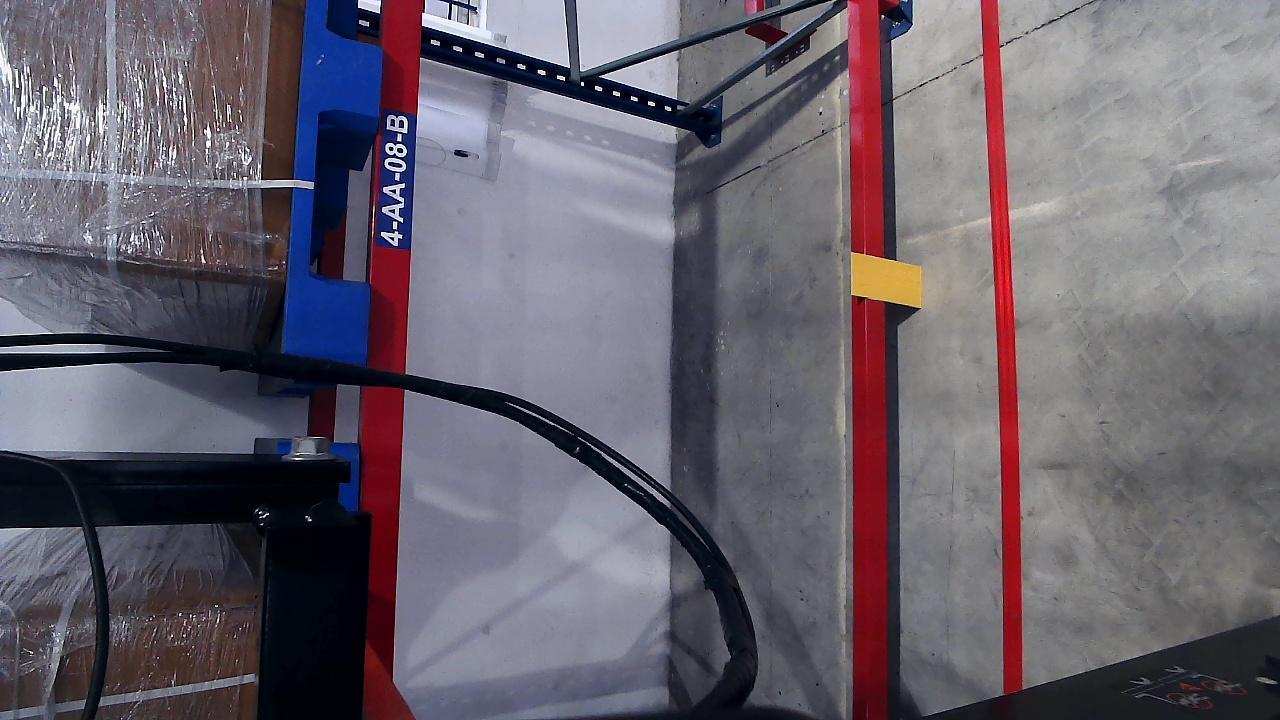red_line: (976, 0, 1024, 698)
